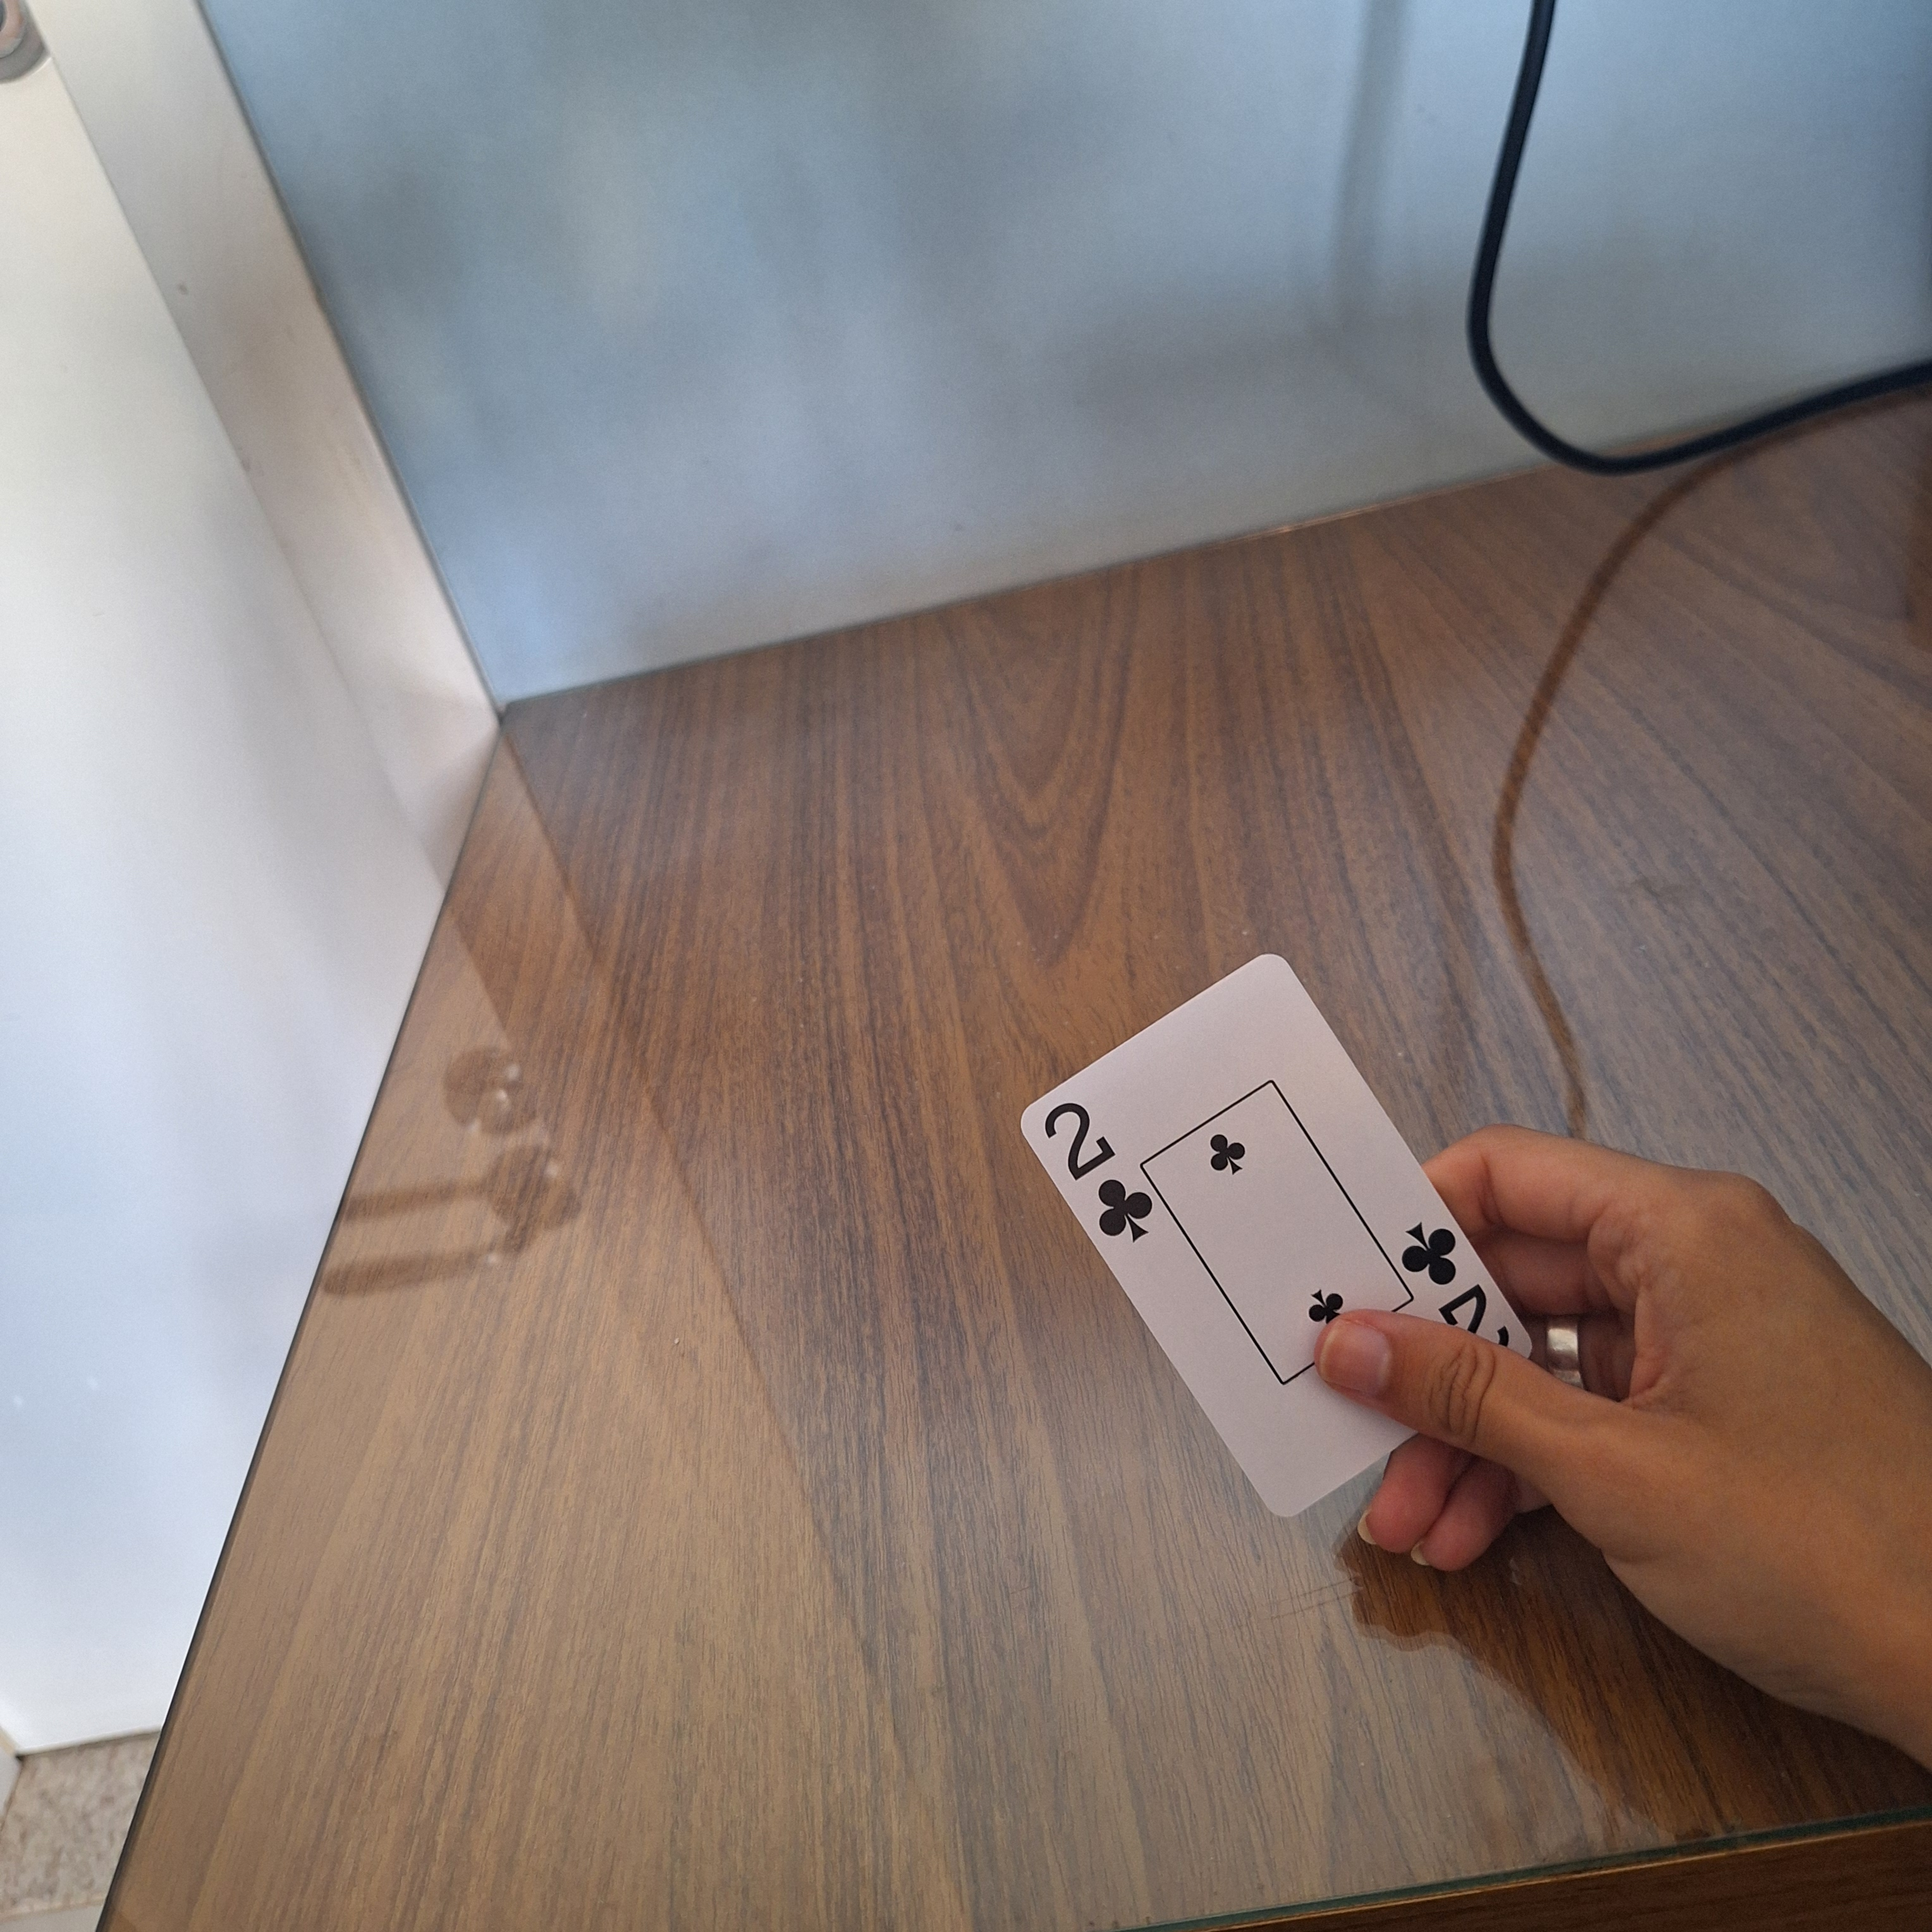2P: (1037, 1097, 1157, 1249), (1391, 1215, 1514, 1352)
